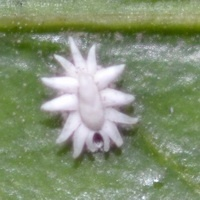insect: (41, 36, 137, 157)
